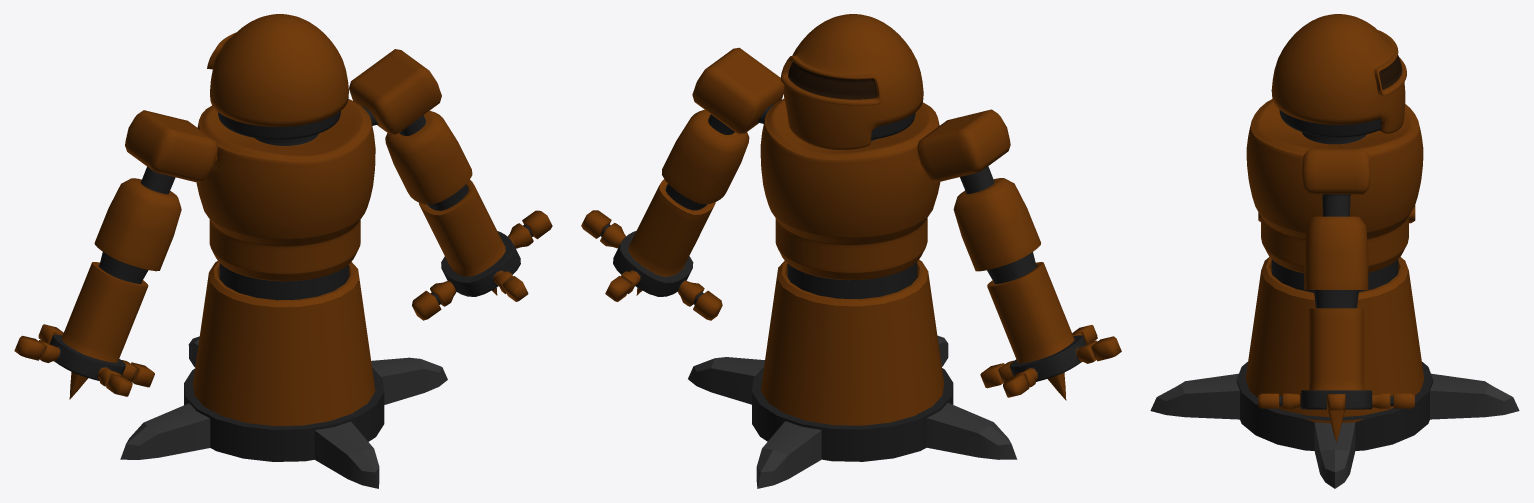
The model's file is Stationary.fbx.
The picture shows the model from 3 angles, left to right: view 1: azimuth 30°, elevation 25°; view 2: azimuth 150°, elevation 25°; view 3: azimuth 270°, elevation 25°; orthographic projection. The views are drawn at different scales.
Visible parts, largest first — view 1: Enemy_Base001; view 2: Enemy_Base001; view 3: Enemy_Base001.
Part boxes in pixels (<box>): Enemy_Base001: <box>14,14,552,488</box>; Enemy_Base001: <box>581,14,1121,488</box>; Enemy_Base001: <box>1150,14,1519,488</box>.
Size of the model in its own units: 321 by 231 by 198.
